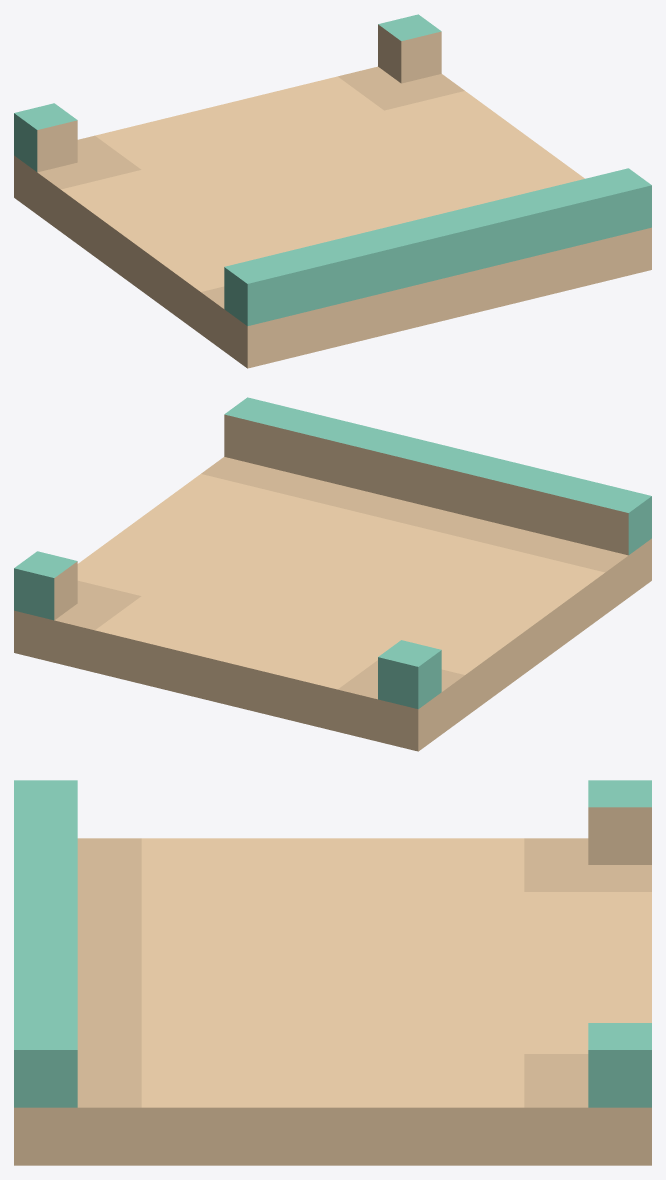
The model's file is Way_T-Cross.fbx.
The picture shows the model from 3 angles, top to bottom: view 1: azimuth 30°, elevation 25°; view 2: azimuth 150°, elevation 25°; view 3: azimuth 270°, elevation 25°; orthographic projection. The views are drawn at different scales.
Visible parts, largest first — view 1: Way_T-Cross; view 2: Way_T-Cross; view 3: Way_T-Cross.
Boxes of the visible parts, box(x1,y1,x2,y2) form: Way_T-Cross: box(14, 14, 651, 368); Way_T-Cross: box(14, 397, 651, 751); Way_T-Cross: box(14, 780, 651, 1165).
Size of the model in its own units: 1 by 0.2 by 1.
